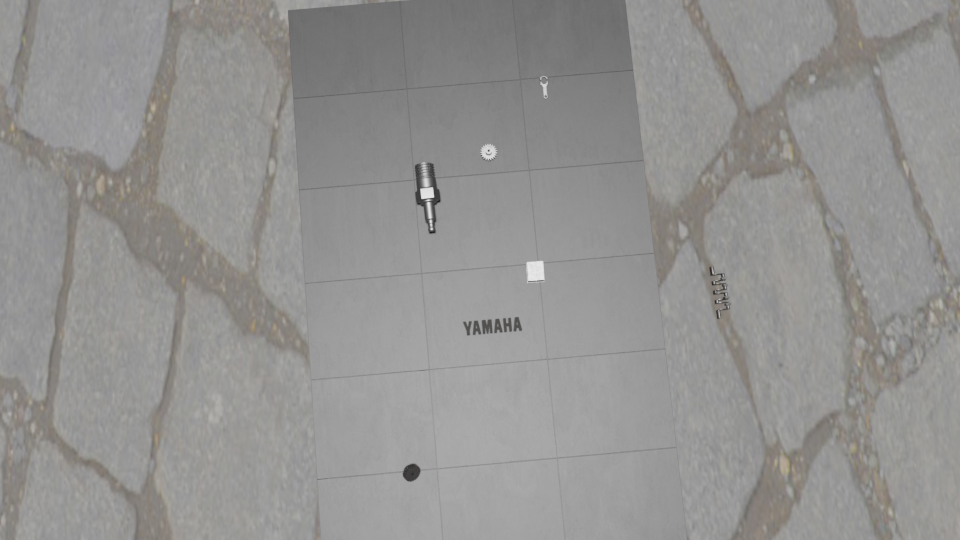yamaha_letters: (462, 316, 522, 335)
